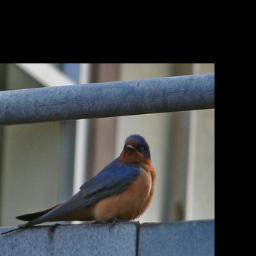Swallow: (0, 134, 156, 236)
